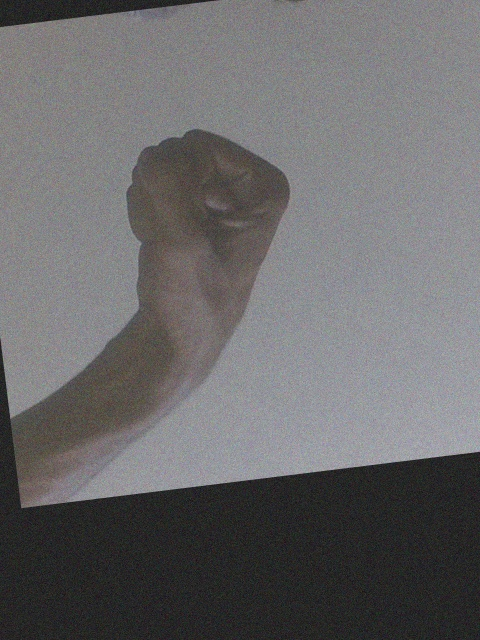hand: (120, 126, 294, 366)
